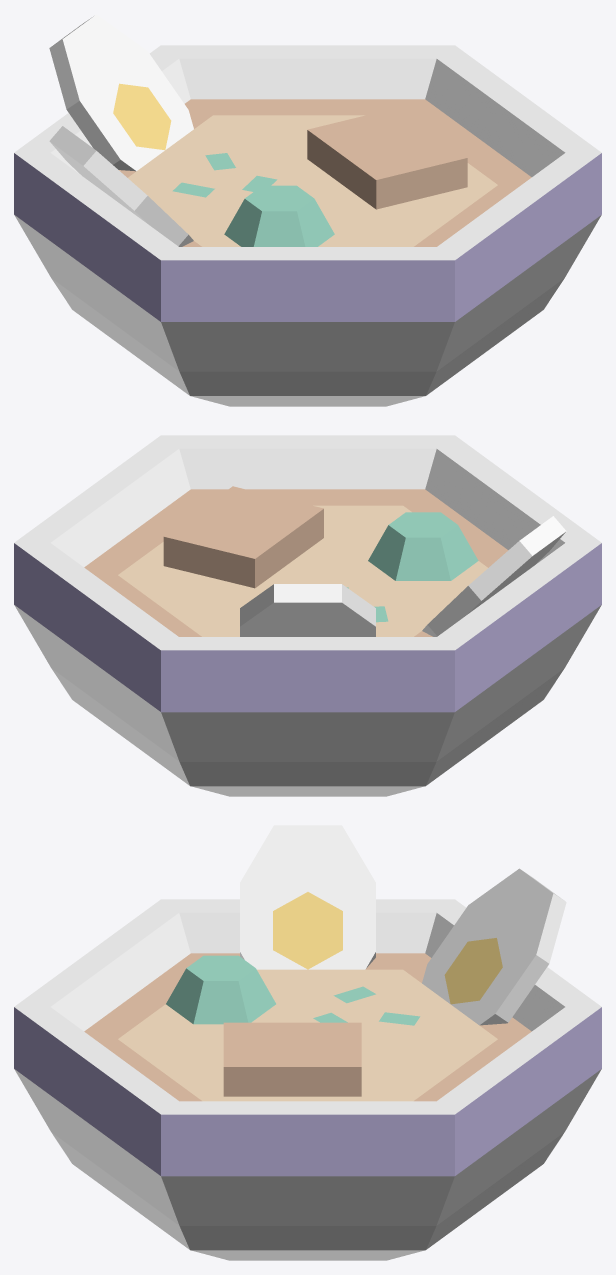
The model's file is asset.glb.
3 views of the same model, one above another, from view 1: azimuth 30°, elevation 25°; view 2: azimuth 150°, elevation 25°; view 3: azimuth 270°, elevation 25° (orthographic).
Parts seen in each view (by area): view 1: bowlBroth, Group (×2); view 2: bowlBroth, Group (×2); view 3: bowlBroth, Group (×2).
Boxes of the visible parts, <box> form: bowlBroth: <box>14,45,601,406</box>; Group (×2): <box>49,14,193,246</box>; bowlBroth: <box>14,435,601,796</box>; Group (×2): <box>240,516,566,636</box>; bowlBroth: <box>14,899,601,1260</box>; Group (×2): <box>240,825,566,1025</box>.
Bounding box in the file's own units: 0.5262 × 0.2903 × 0.5798.
